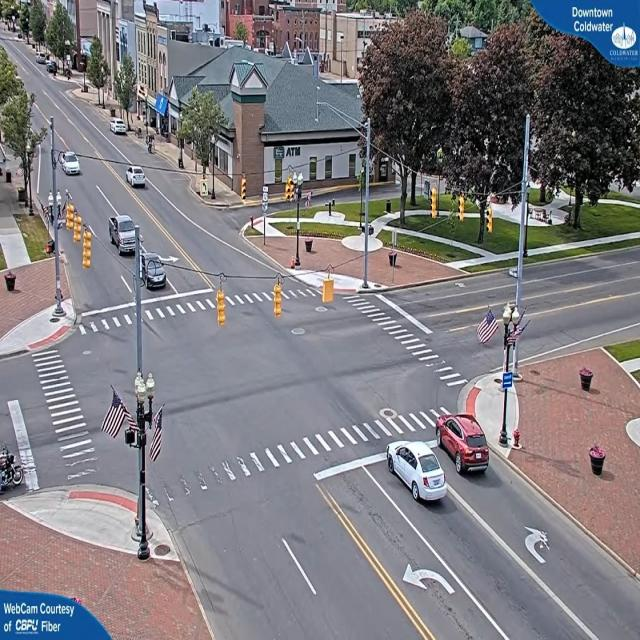car: (389, 442, 448, 503), (438, 413, 491, 472), (109, 215, 142, 255), (142, 253, 168, 290), (125, 165, 148, 188), (59, 152, 80, 176), (112, 120, 130, 138)
